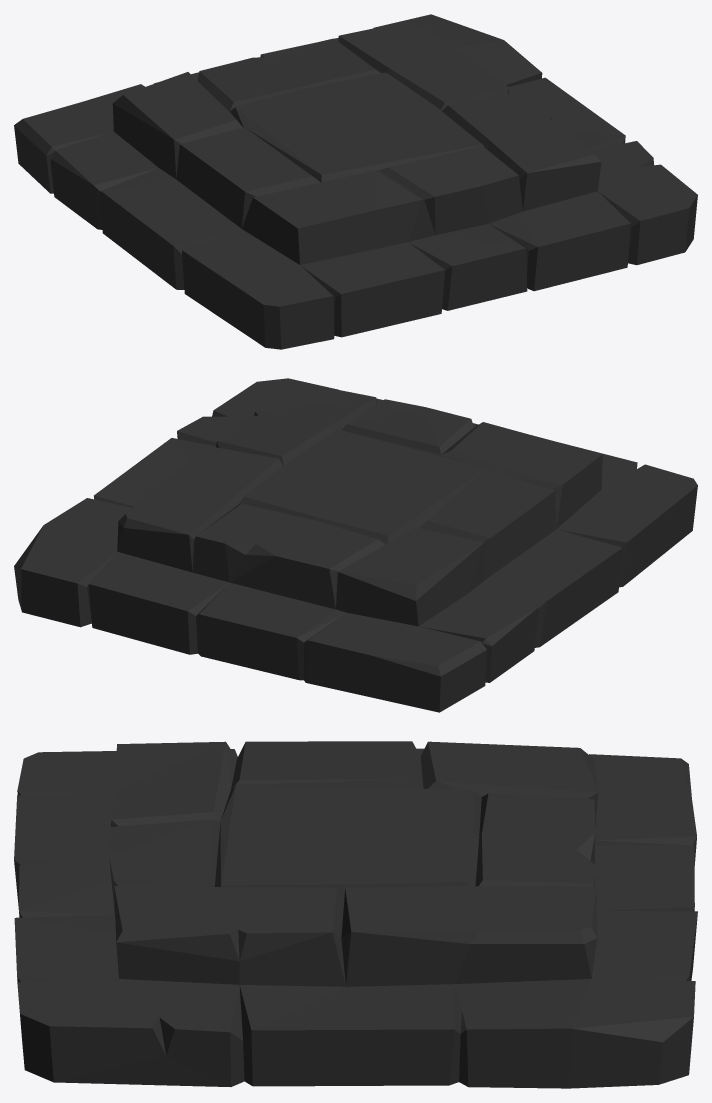
File: Throne_02.FBX
3 renders of one model, top to bottom at view 1: azimuth 30°, elevation 25°; view 2: azimuth 150°, elevation 25°; view 3: azimuth 270°, elevation 25°, orthographic. The views are drawn at different scales.
Parts seen in each view (by area): view 1: Throne_02; view 2: Throne_02; view 3: Throne_02.
Boxes of the visible parts, x1=… form: Throne_02: x1=14, y1=14, x2=697, y2=349; Throne_02: x1=14, y1=378, x2=697, y2=712; Throne_02: x1=14, y1=741, x2=697, y2=1088.
Bounding box in the file's own units: 77.06 × 13.95 × 78.19.
